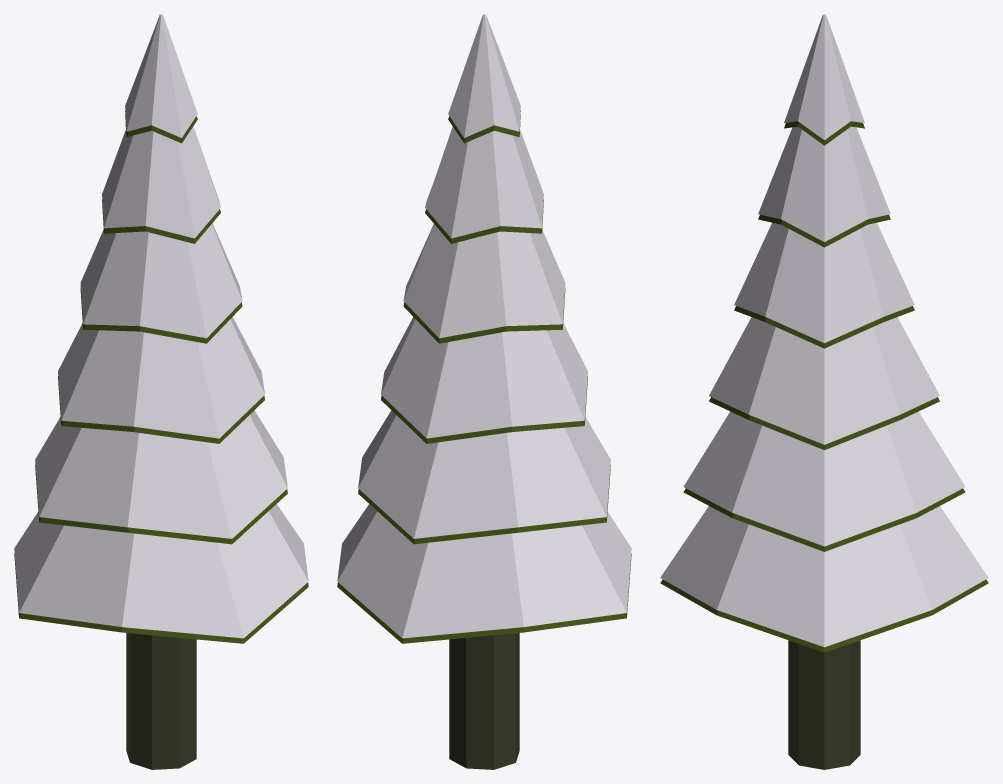
Rendered from Pine.fbx.
3 renders of one model, left to right at view 1: azimuth 30°, elevation 25°; view 2: azimuth 150°, elevation 25°; view 3: azimuth 270°, elevation 25°, orthographic.
Visible parts, largest first — view 1: Pine; view 2: Pine; view 3: Pine.
Boxes of the visible parts, x1=… form: Pine: x1=14, y1=14, x2=308, y2=769; Pine: x1=337, y1=14, x2=631, y2=769; Pine: x1=660, y1=14, x2=988, y2=769.
Bounding box in the file's own units: 202 × 502 × 202.
